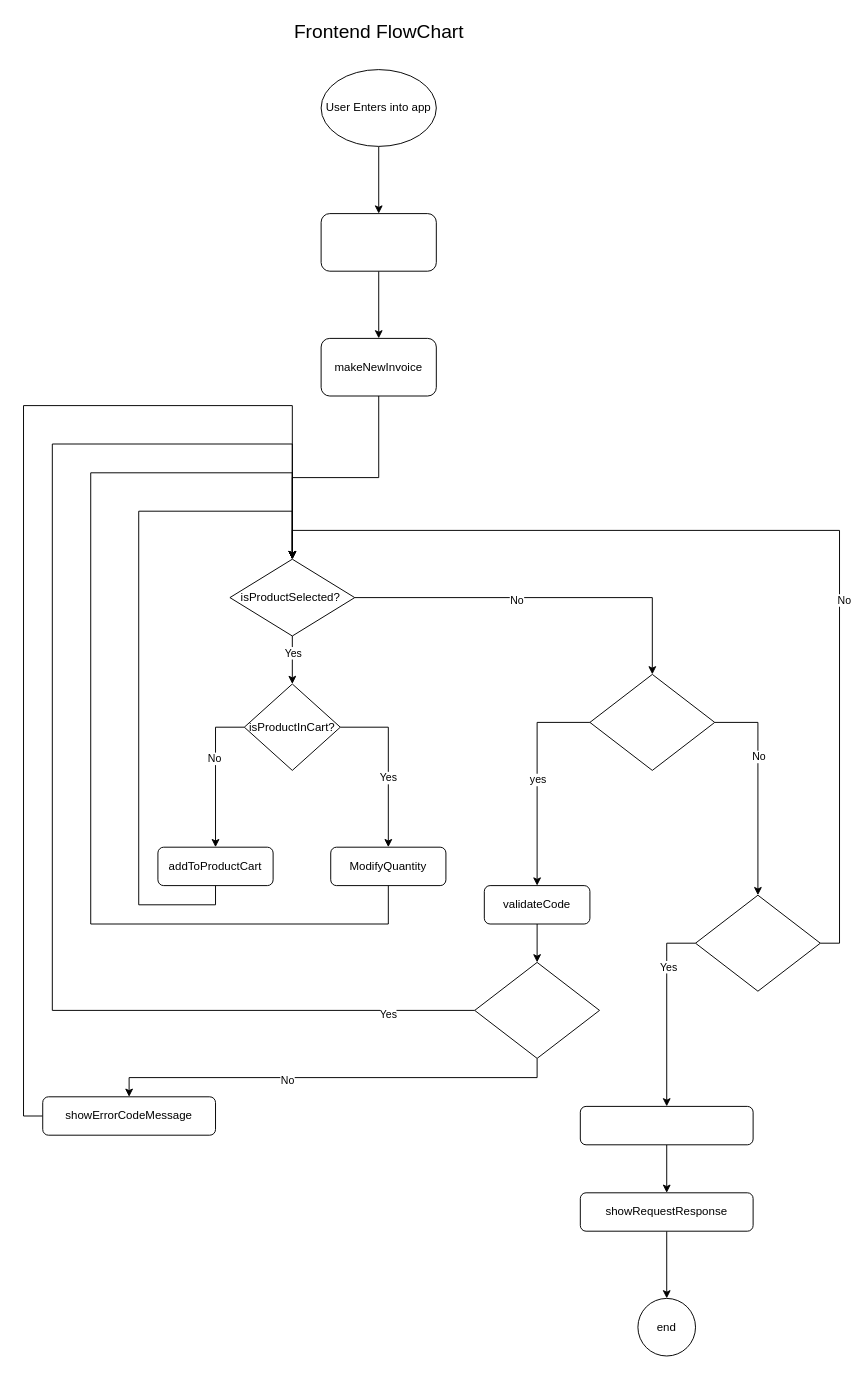
Some shapes in this 867 by 1373 pixel diagram are drawn without their labels. The centre of each missing label's shape, as x and y in pixels:
"isPromoCodeEntered" belongs at point 652,721.
"isValidCode?" belongs at point 537,1009.
"loadAllProducts" belongs at point 378,242.
"makePayment?" belongs at point 757,942.
"makePaymentRequest" belongs at point 666,1125.
